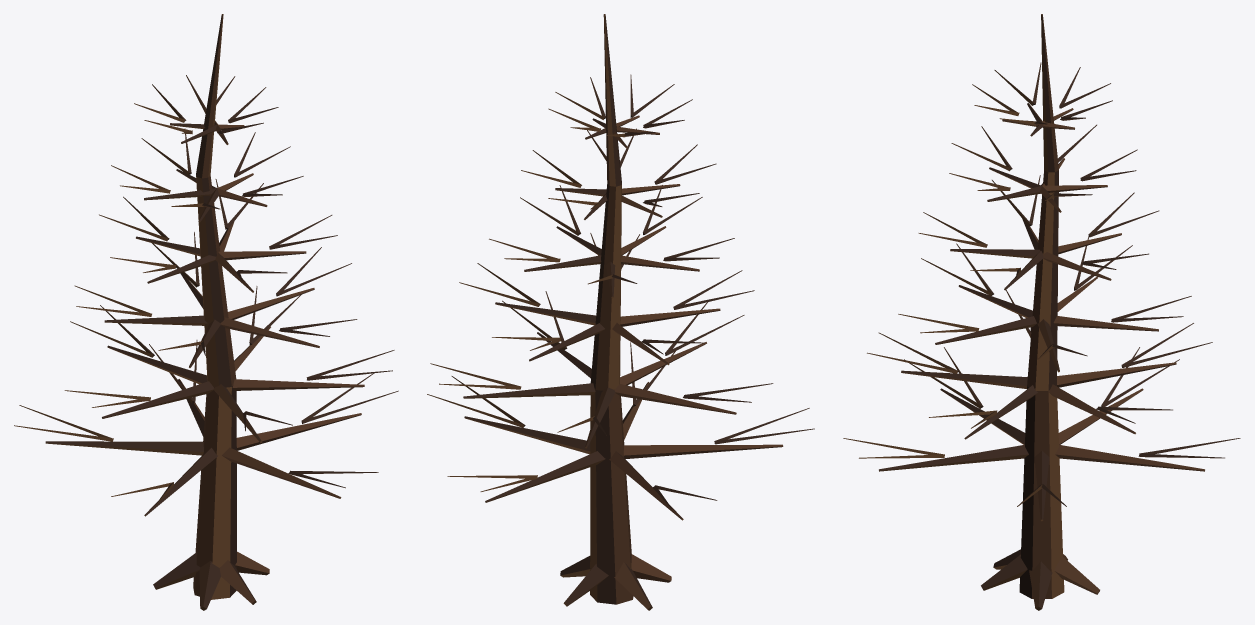
The model's file is tree_larch_bare.obj.
3 renders of one model, left to right at view 1: azimuth 30°, elevation 25°; view 2: azimuth 150°, elevation 25°; view 3: azimuth 270°, elevation 25°, orthographic.
Parts seen in each view (by area): view 1: tree_larch_bare; view 2: tree_larch_bare; view 3: tree_larch_bare.
Boxes of the visible parts, bbox=[...] form: tree_larch_bare: bbox=[14, 14, 398, 610]; tree_larch_bare: bbox=[427, 14, 814, 610]; tree_larch_bare: bbox=[843, 14, 1240, 610].
Bounding box in the file's own units: 384 × 650 × 403.
Materials: 1 (1 with a texture image).
